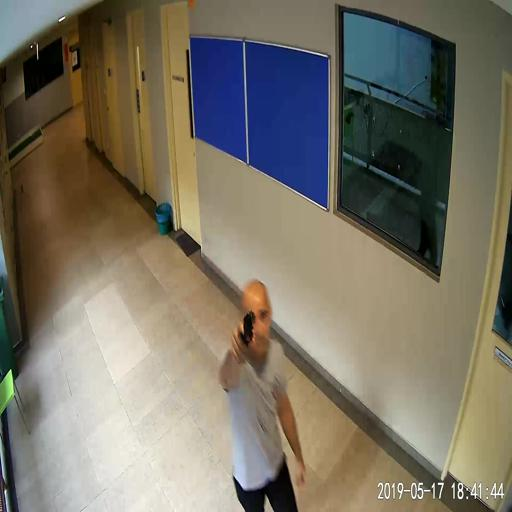pistol: (235, 309, 258, 352)
